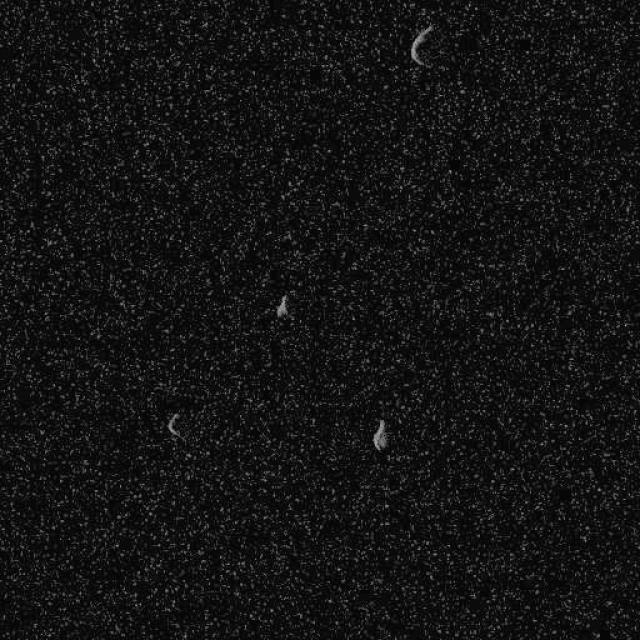D2: (408, 22, 438, 66), (371, 418, 390, 452), (165, 411, 181, 439), (274, 292, 288, 318)
